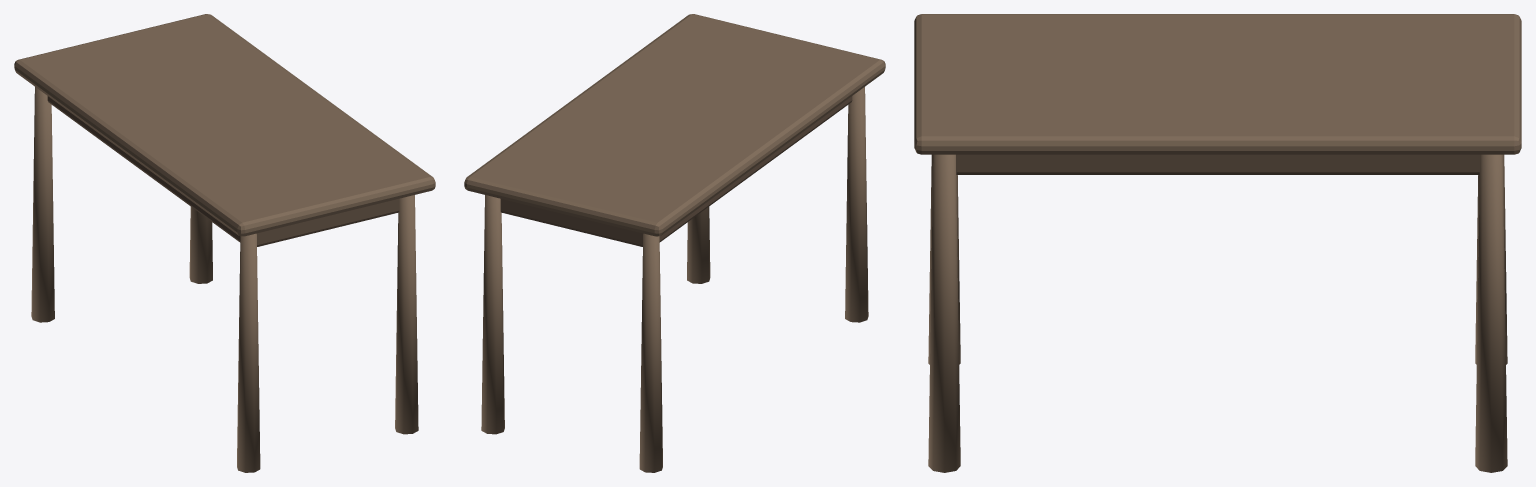
Rendered from table_0_6x1_2x0_74.glb.
3 views of the same model, side by side, from view 1: azimuth 30°, elevation 25°; view 2: azimuth 150°, elevation 25°; view 3: azimuth 270°, elevation 25° (orthographic). The views are drawn at different scales.
Visible parts, largest first — view 1: table_0_6x1_2x0_74; view 2: table_0_6x1_2x0_74; view 3: table_0_6x1_2x0_74.
Part boxes in pixels (x1,y1,x2,y2): table_0_6x1_2x0_74: (14,14,435,472); table_0_6x1_2x0_74: (464,14,885,472); table_0_6x1_2x0_74: (914,14,1521,472).
Size of the model in its own units: 0.6 by 0.74 by 1.2.
